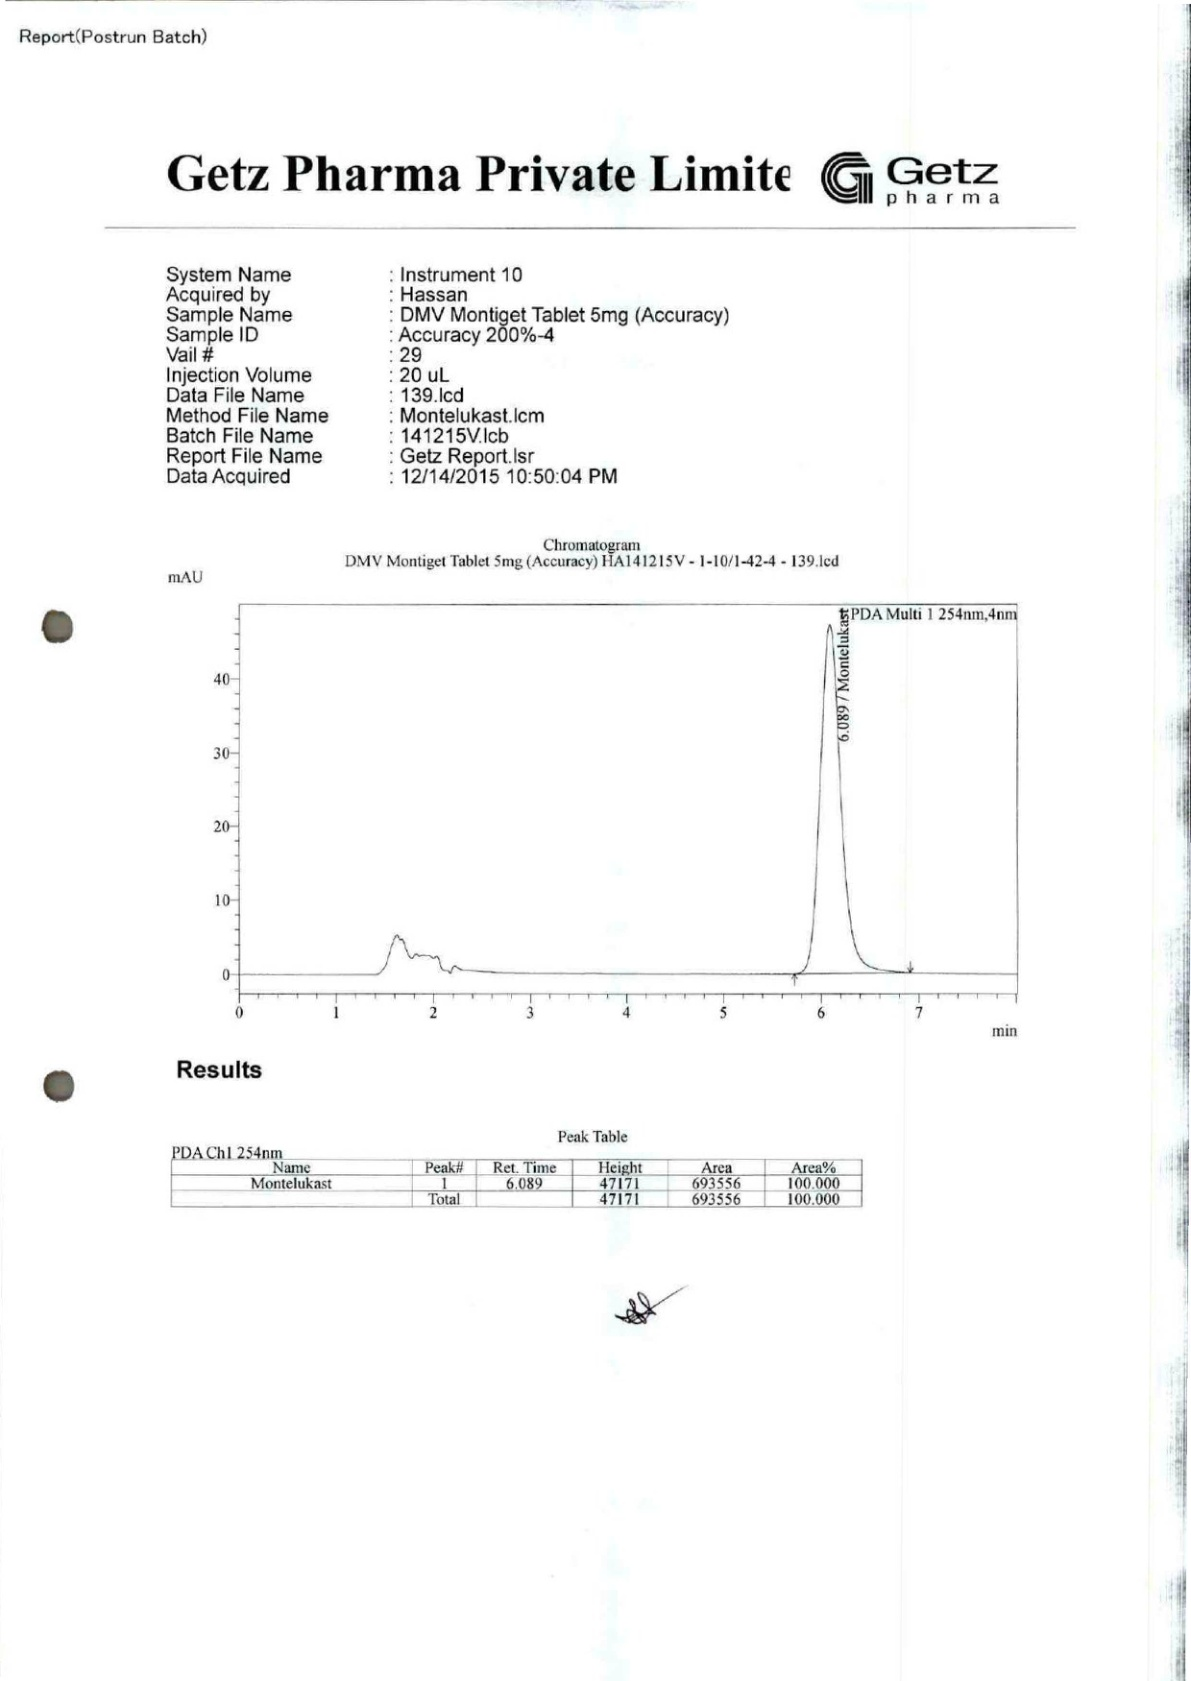full_lined: (170, 1158, 864, 1208)
nolines: (160, 260, 733, 487)
